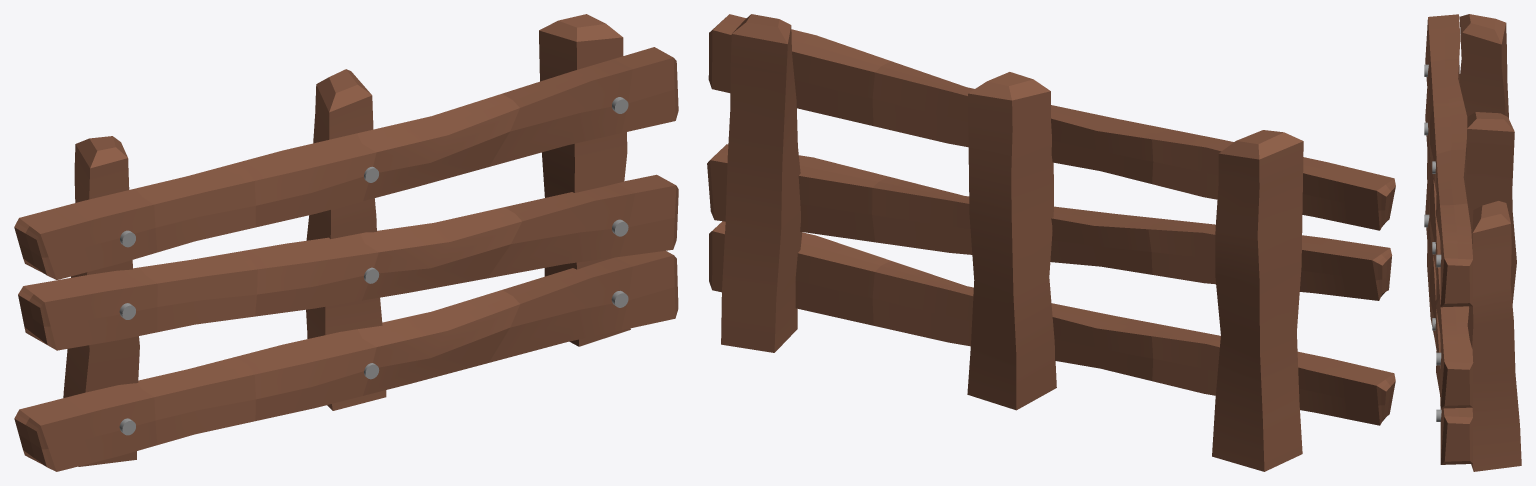
The model's file is Fence.fbx.
3 views of the same model, side by side, from view 1: azimuth 30°, elevation 25°; view 2: azimuth 150°, elevation 25°; view 3: azimuth 270°, elevation 25° (orthographic). The views are drawn at different scales.
Parts seen in each view (by area): view 1: Fence_1; view 2: Fence_1; view 3: Fence_1.
Boxes of the visible parts, x1,y1,x2,y2 form: Fence_1: [14, 14, 678, 471]; Fence_1: [707, 14, 1395, 471]; Fence_1: [1424, 14, 1521, 471].
Size of the model in its own units: 13.58 by 6.13 by 2.18.
